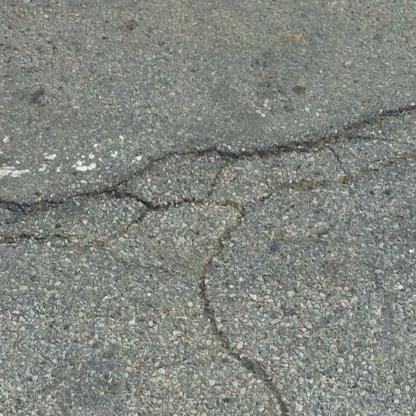Cracks: (0, 105, 415, 254), (197, 150, 415, 415)
